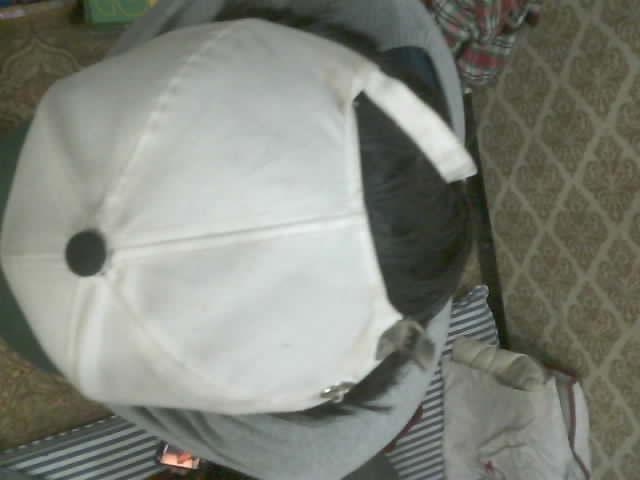cap: (0, 17, 476, 416)
